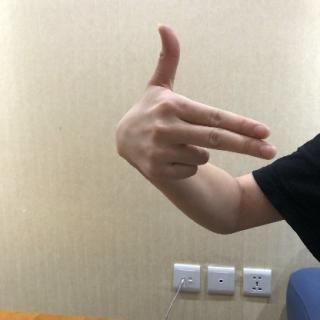GHAYN: (111, 23, 281, 184)
